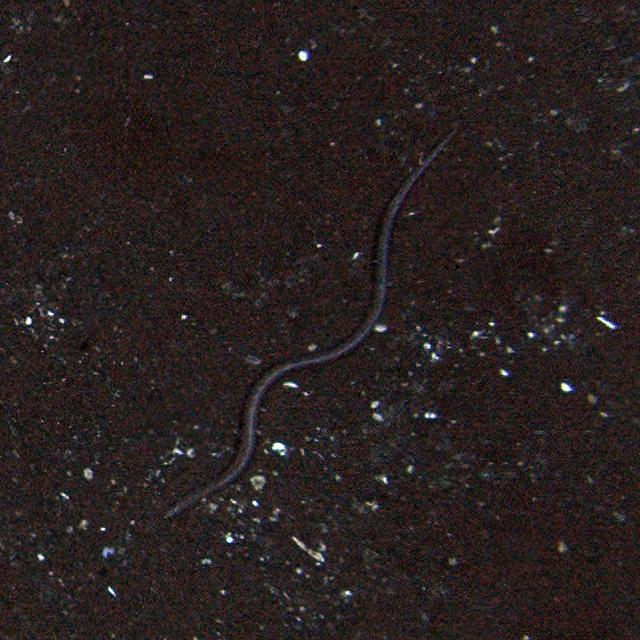eel: (170, 127, 467, 522)
